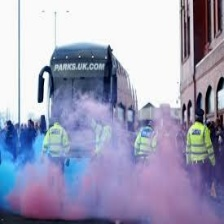smoke: (5, 147, 196, 223)
